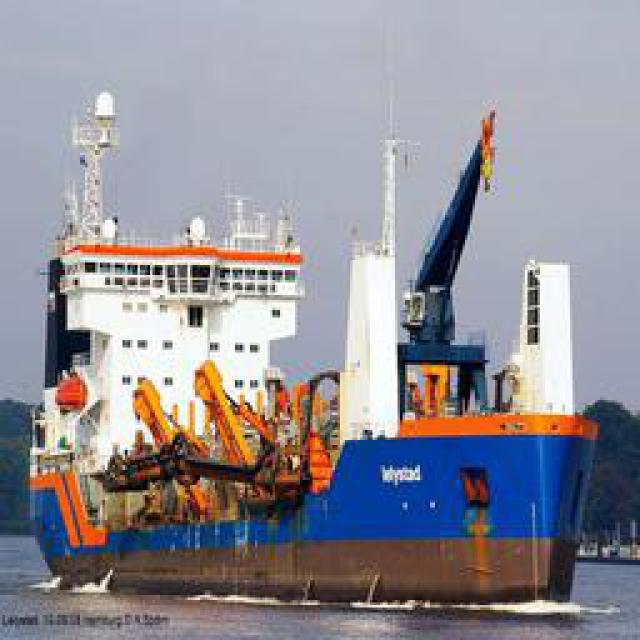Ship: (20, 16, 600, 626)
